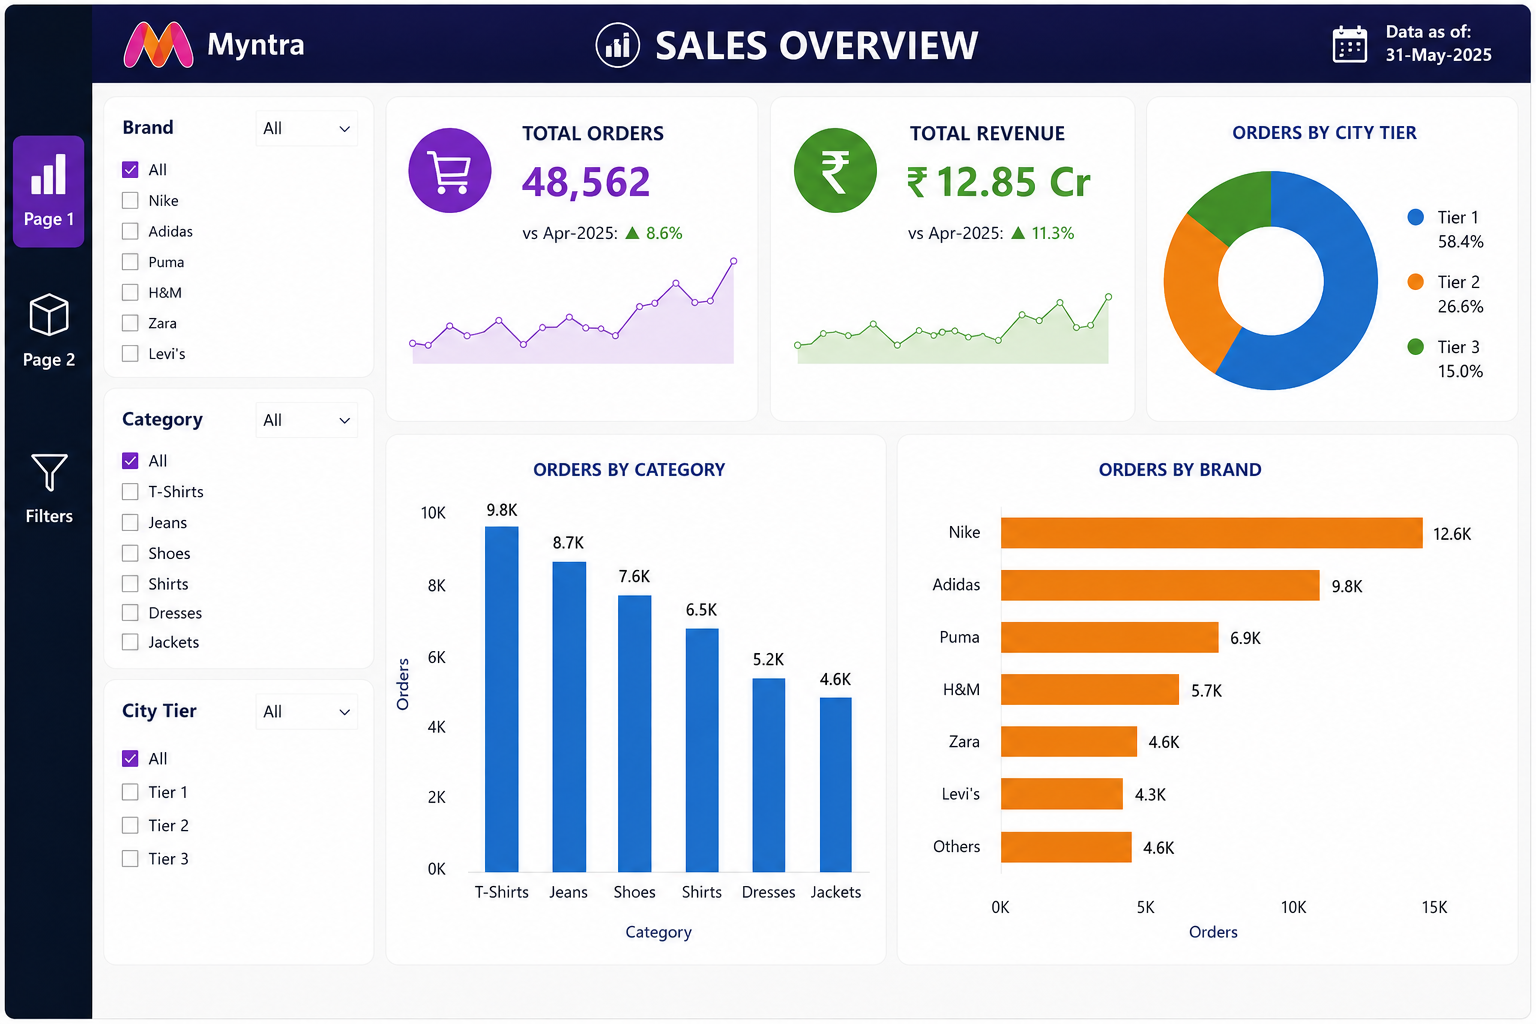

What the dashboard file says about the page in this screenshot:
{"tool":"powerbi","page":{"name":"Page 1","canvas":[1920,1080],"ordinal":0},"visuals":[{"type":"image","box":[150.3,23.9,140.8,76.3],"z":0,"group":"g1"},{"type":"listSlicer","title":"Brand","fields":{"Values":["myntra_Orders_Master.Brand_Name"]},"box":[176.6,133.6,228,285],"z":0},{"type":"image","box":[1665.4,35.8,64,60],"z":1000,"group":"g1"},{"type":"image","box":[24.2,385.9,91.8,95.2],"z":1000},{"type":"shape","box":[0,0,1920.7,116.9],"z":2000},{"type":"textbox","box":[560.7,23.9,799.3,71.6],"z":2000,"group":"g1"},{"type":"textbox","box":[1741.7,35.8,131.2,69.2],"z":3000,"group":"g1"},{"type":"image","box":[34.2,395.9,91.8,95.2],"z":3000},{"type":"textbox","box":[291.1,35.8,145.5,64.4],"z":4000,"group":"g1"},{"type":"image","box":[24,566,91.8,84.4],"z":4000},{"type":"shape","box":[0,0,150,1080],"z":5000,"group":"g2"},{"type":"image","box":[644.2,31.1,62,57.3],"z":5000,"group":"g1"},{"type":"listSlicer","title":"City_Tier","fields":{"Values":["myntra_Orders_Master.City_Tier"]},"box":[176,810,228,240],"z":6000},{"type":"listSlicer","title":"Category","fields":{"Values":["myntra_Orders_Master.Category"]},"box":[176,465,228,330],"z":7000},{"type":"donutChart","title":"ORDERS BY CITY TIER","fields":{"Category":["myntra_Orders_Master.City_Tier"],"Y":["myntra_Orders_Master.Total Orders"]},"box":[1402.9,133.6,496.3,310.2],"z":8000},{"type":"shape","box":[424.7,136,470,307.8],"z":9000},{"type":"shape","box":[918.6,136,470,307.8],"z":10000},{"type":"clusteredColumnChart","title":"ORDERS BY CATEGORY","fields":{"Category":["myntra_Orders_Master.Category"],"Y":["myntra_Orders_Master.Total Orders"]},"box":[440,460,700,590],"z":11000},{"type":"clusteredBarChart","title":"ORDERS BY BRAND","fields":{"Category":["myntra_Orders_Master.Brand Group"],"Y":["myntra_Orders_Master.Total Orders"]},"box":[1165,460,735,590],"z":12000},{"type":"shape","box":[465,193,90,90],"z":13000},{"type":"shape","box":[960,193,90,90],"z":14000},{"type":"textbox","box":[465,210,90,60],"z":15000},{"type":"textbox","box":[641.8,188.5,186.1,35.8],"z":16000},{"type":"card","fields":{"Values":["myntra_Orders_Master.Total Orders"]},"box":[575,223,320,75],"z":17000},{"type":"card","fields":{"Values":["myntra_Orders_Master.Orders MoM Text"]},"box":[575,293.5,319.7,52.5],"z":18000},{"type":"textbox","box":[960,210,90,60],"z":19000},{"type":"textbox","box":[1152.4,186.1,207.6,40.6],"z":20000},{"type":"card","fields":{"Values":["myntra_Orders_Master.Revenue Cr"]},"box":[1070,223,320,75],"z":21000},{"type":"card","fields":{"Values":["myntra_Orders_Master.Revenue MoM Text"]},"box":[1164.3,295.9,224.3,50.1],"z":22000},{"type":"lineChart","fields":{"Category":["Calendar.Date"],"Y":["myntra_Orders_Master.Revenue Cr"]},"box":[942.4,329.3,417.5,90.7],"z":23000},{"type":"lineChart","fields":{"Category":["Calendar.Date"],"Y":["myntra_Orders_Master.Total Orders"]},"box":[441.4,334,440,85],"z":24000},{"type":"image","box":[34,258,72,72],"z":25000,"group":"g2"},{"type":"image","box":[38.2,412.8,72,72],"z":26000,"group":"g2"},{"type":"image","box":[38.2,558.3,72,72],"z":27000,"group":"g2"},{"type":"group","id":"g1","title":"Group 1","box":[150.3,23.9,1722.6,81.1],"z":28000},{"type":"textbox","box":[33.4,326.9,71.6,35.8],"z":29000,"group":"g2"},{"type":"textbox","box":[35.8,484.3,88.3,31],"z":30000,"group":"g2"},{"type":"textbox","box":[38.2,632.3,66.8,38.2],"z":31000,"group":"g2"},{"type":"group","id":"g2","title":"Group 2","box":[0,0,150.3,1080.8],"z":31001}]}

Visuals, with their boxes on the page's 1920x1080 design canvas (x1, y1, x2, y2). These are canvas units, not pixel positions in the 1536x1024 screenshot, which may show the page scaled, cropped or inside an application window:
image: detection(150, 24, 291, 100)
"Brand" listSlicer: detection(177, 134, 405, 419)
image: detection(1665, 36, 1729, 96)
image: detection(24, 386, 116, 481)
shape: detection(0, 0, 1921, 117)
textbox: detection(561, 24, 1360, 96)
textbox: detection(1742, 36, 1873, 105)
image: detection(34, 396, 126, 491)
textbox: detection(291, 36, 437, 100)
image: detection(24, 566, 116, 650)
shape: detection(0, 0, 150, 1080)
image: detection(644, 31, 706, 88)
"City_Tier" listSlicer: detection(176, 810, 404, 1050)
"Category" listSlicer: detection(176, 465, 404, 795)
"ORDERS BY CITY TIER" donutChart: detection(1403, 134, 1899, 444)
shape: detection(425, 136, 895, 444)
shape: detection(919, 136, 1389, 444)
"ORDERS BY CATEGORY" clusteredColumnChart: detection(440, 460, 1140, 1050)
"ORDERS BY BRAND" clusteredBarChart: detection(1165, 460, 1900, 1050)
shape: detection(465, 193, 555, 283)
shape: detection(960, 193, 1050, 283)
textbox: detection(465, 210, 555, 270)
textbox: detection(642, 188, 828, 224)
card - myntra_Orders_Master.Total Orders: detection(575, 223, 895, 298)
card - myntra_Orders_Master.Orders MoM Text: detection(575, 294, 895, 346)
textbox: detection(960, 210, 1050, 270)
textbox: detection(1152, 186, 1360, 227)
card - myntra_Orders_Master.Revenue Cr: detection(1070, 223, 1390, 298)
card - myntra_Orders_Master.Revenue MoM Text: detection(1164, 296, 1389, 346)
lineChart - Calendar.Date x myntra_Orders_Master.Revenue Cr: detection(942, 329, 1360, 420)
lineChart - Calendar.Date x myntra_Orders_Master.Total Orders: detection(441, 334, 881, 419)
image: detection(34, 258, 106, 330)
image: detection(38, 413, 110, 485)
image: detection(38, 558, 110, 630)
"Group 1" group: detection(150, 24, 1873, 105)
textbox: detection(33, 327, 105, 363)
textbox: detection(36, 484, 124, 515)
textbox: detection(38, 632, 105, 670)
"Group 2" group: detection(0, 0, 150, 1081)
